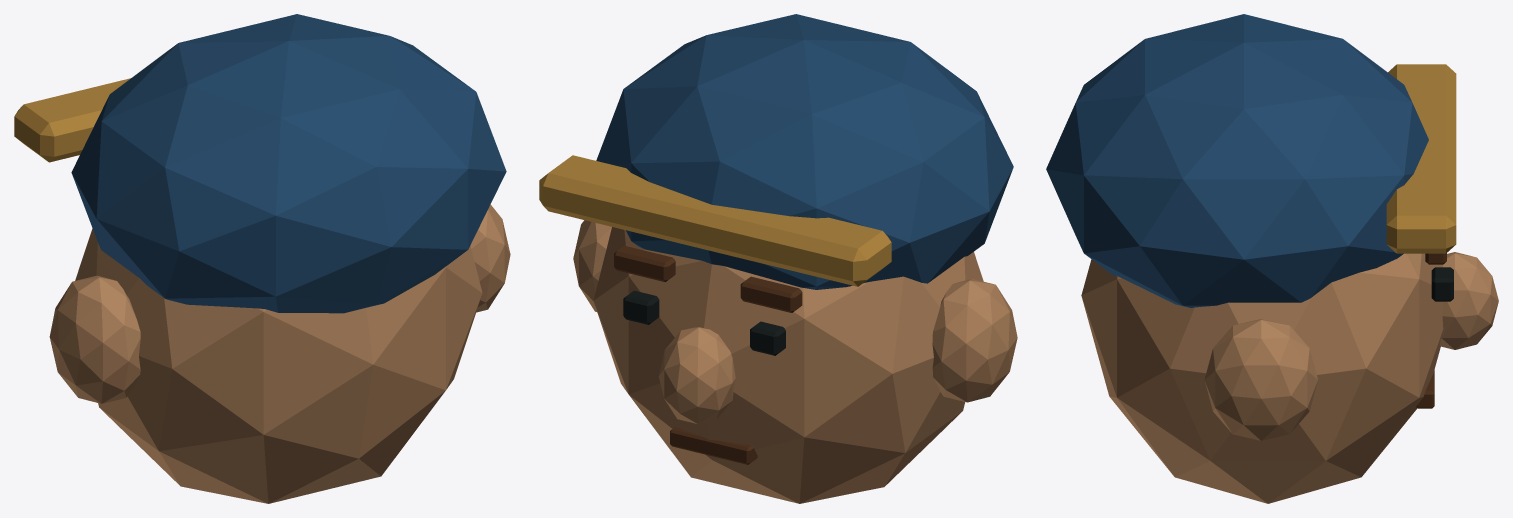
File: RiderHead.glb
The picture shows the model from 3 angles, left to right: view 1: azimuth 30°, elevation 25°; view 2: azimuth 150°, elevation 25°; view 3: azimuth 270°, elevation 25°; orthographic projection. The views are drawn at different scales.
Visible parts, largest first — view 1: Sculpture; view 2: Sculpture; view 3: Sculpture.
Part boxes in pixels (box(x1,y1,x2,y2)): Sculpture: box(14, 14, 510, 503); Sculpture: box(539, 14, 1017, 503); Sculpture: box(1046, 14, 1498, 503).
Bounding box in the file's own units: 0.572 × 0.57 × 0.526.
